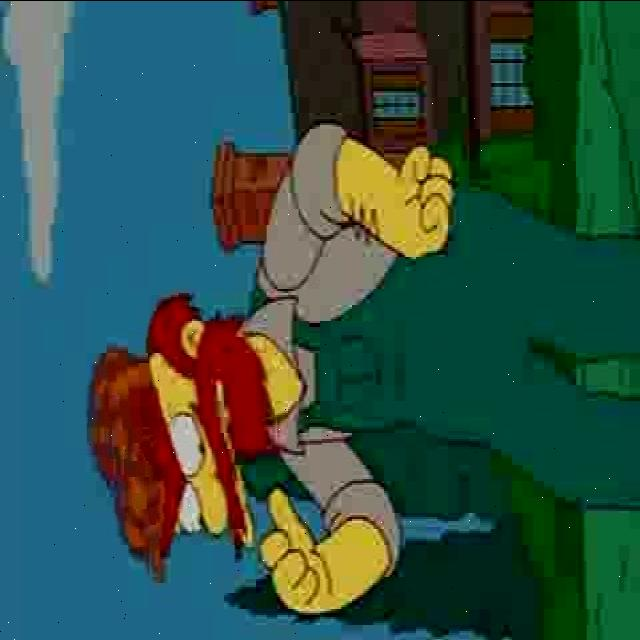Groundskeeper Willie: (143, 284, 284, 564)
